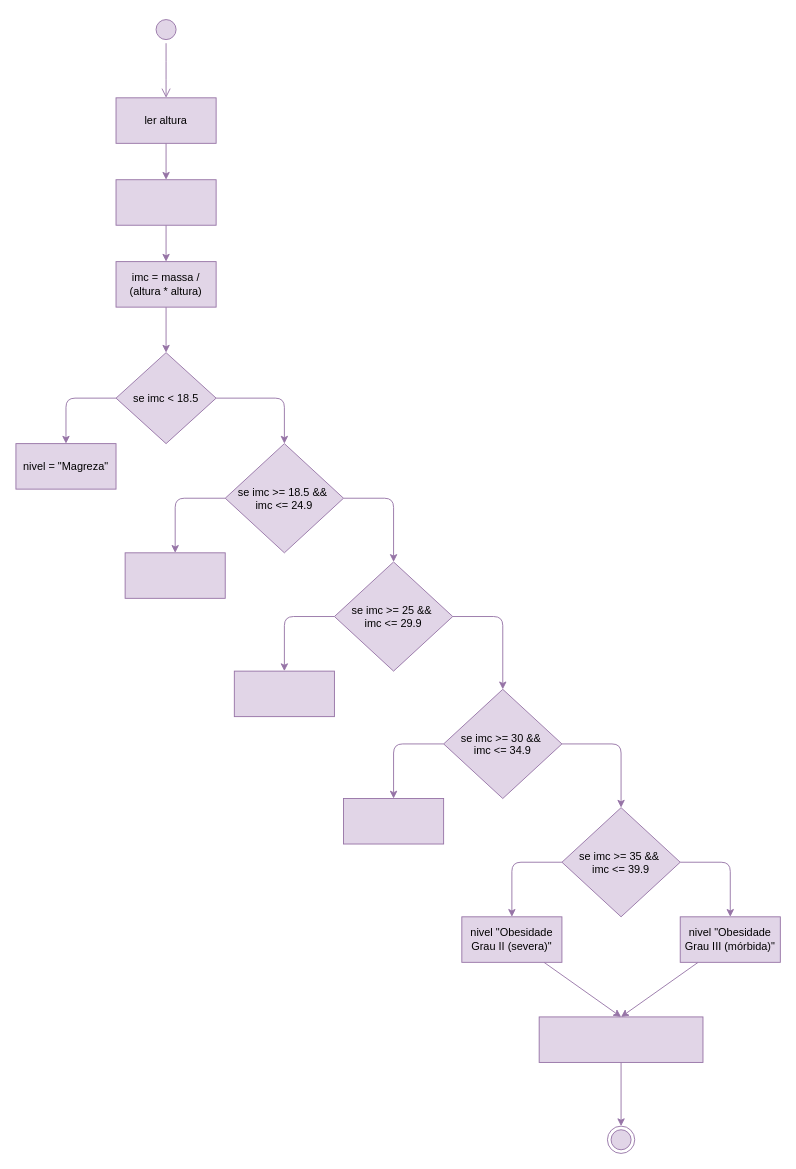
The diagram is 796 pixels wide and 1169 high, and some of its shapes have lost their labels. Here are the shapes that lost their labels. From the top down, the centre of each, then its label:
point (165, 202): ler massa
point (174, 575): nivel "Saúdavel"
point (283, 693): nivel "Sobrepeso"
point (393, 821): nivel "Obesidade Grau I"
point (620, 1039): O grau de obesidade do indivíduo é: " + nivel
